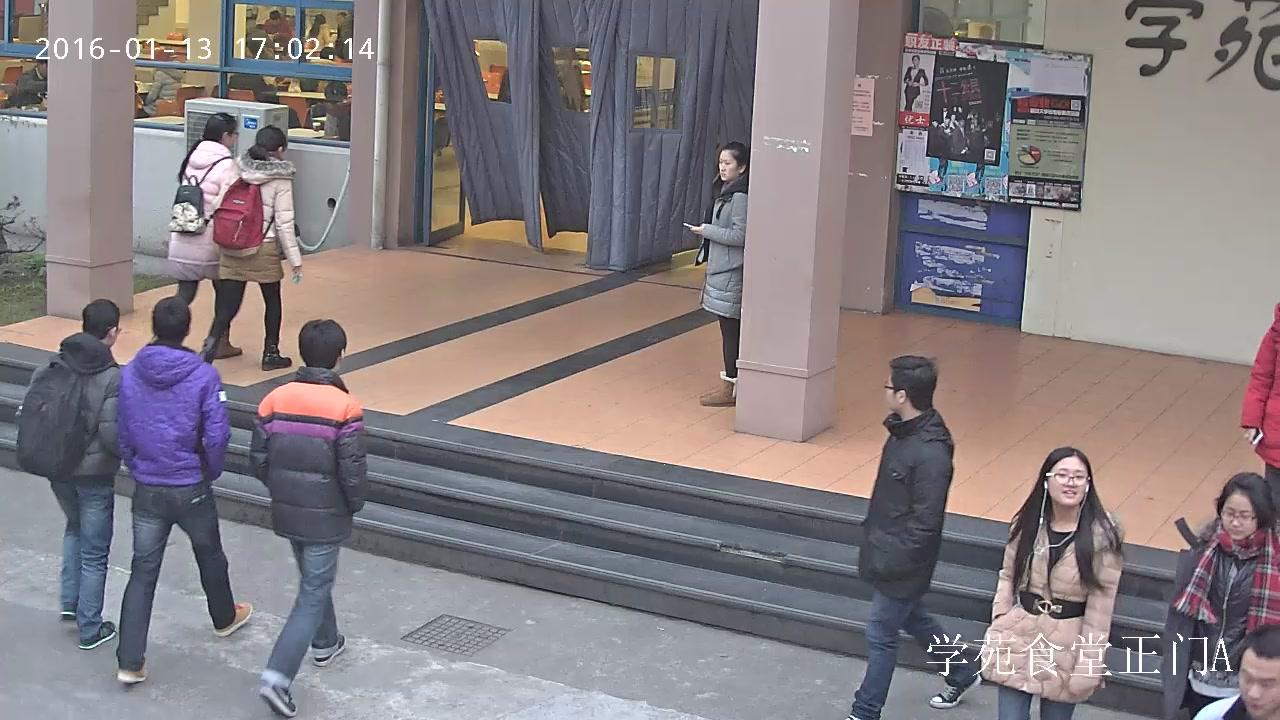person: (113, 296, 252, 685), (844, 354, 980, 720), (251, 320, 365, 720), (978, 445, 1128, 720), (15, 296, 125, 652), (1165, 472, 1280, 720), (203, 123, 301, 369), (149, 111, 239, 358), (682, 141, 749, 407), (1242, 303, 1280, 527), (138, 54, 184, 116), (8, 59, 46, 106), (322, 81, 351, 142), (904, 55, 928, 110), (263, 10, 293, 51), (310, 13, 334, 52), (336, 11, 353, 58)
